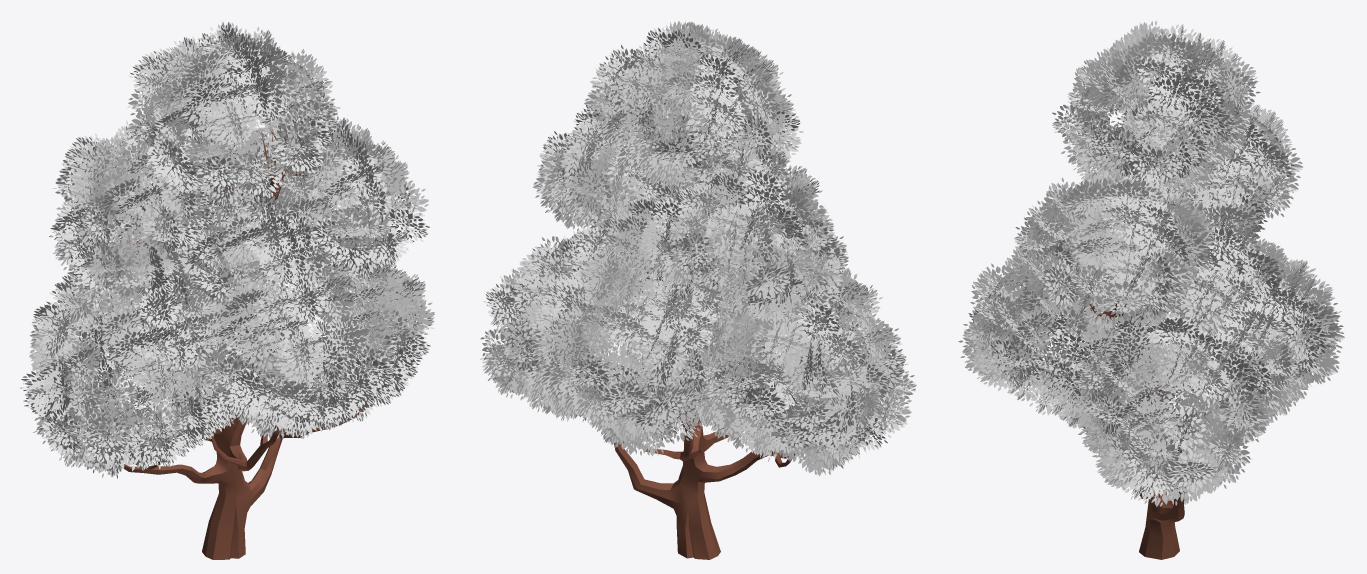
The model's file is NOVO_2_Top.fbx.
3 views of the same model, side by side, from view 1: azimuth 30°, elevation 25°; view 2: azimuth 150°, elevation 25°; view 3: azimuth 270°, elevation 25° (orthographic).
Visible parts, largest first — view 1: Tree_free_03.003; view 2: Tree_free_03.003; view 3: Tree_free_03.003.
Boxes of the visible parts, x1,y1,x2,y2 form: Tree_free_03.003: [20, 22, 434, 559]; Tree_free_03.003: [479, 21, 916, 559]; Tree_free_03.003: [958, 21, 1344, 559].
Size of the model in its own units: 767 by 930 by 642.
